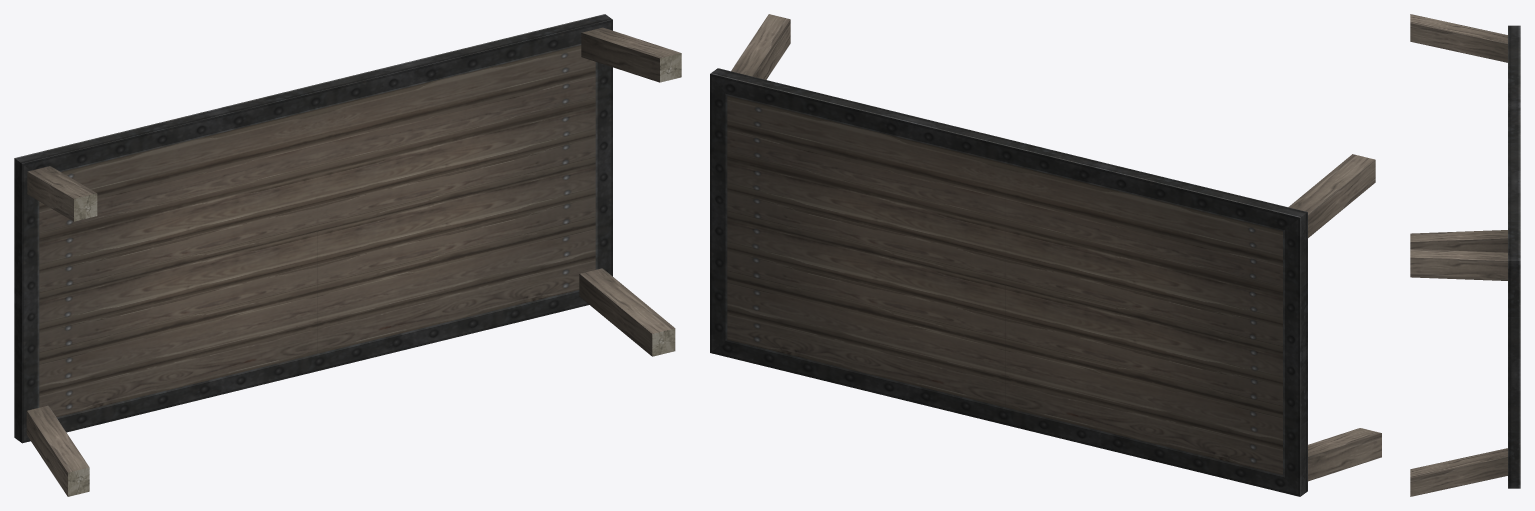
The model's file is Table_Big_B.fbx.
3 views of the same model, side by side, from view 1: azimuth 30°, elevation 25°; view 2: azimuth 150°, elevation 25°; view 3: azimuth 270°, elevation 25° (orthographic). The views are drawn at different scales.
Parts seen in each view (by area): view 1: Table_Big_B; view 2: Table_Big_B; view 3: Table_Big_B.
Part boxes in pixels (x1=…): Table_Big_B: x1=14, y1=14, x2=681, y2=496; Table_Big_B: x1=710, y1=14, x2=1381, y2=496; Table_Big_B: x1=1410, y1=14, x2=1520, y2=496.
Size of the model in its own units: 4.86 by 2.26 by 0.9273.
